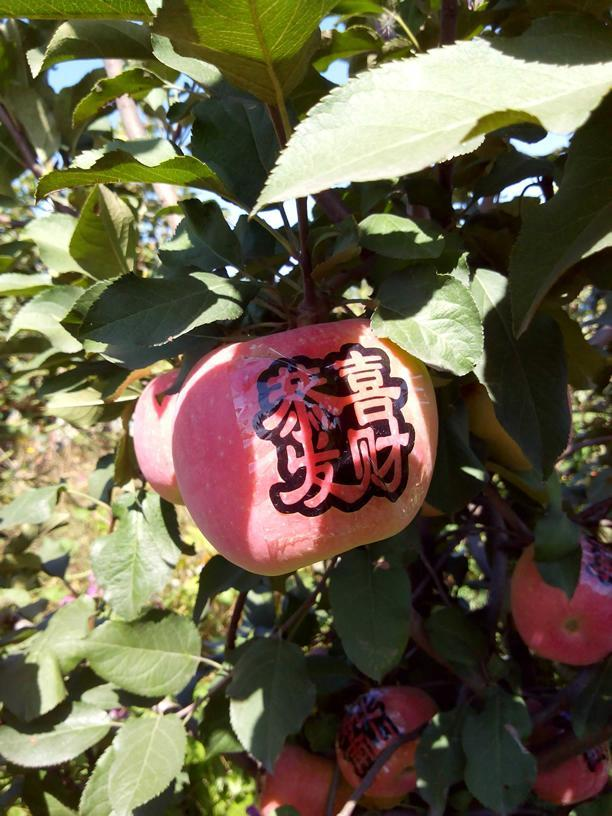apple: (167, 313, 436, 579), (502, 519, 612, 664)
